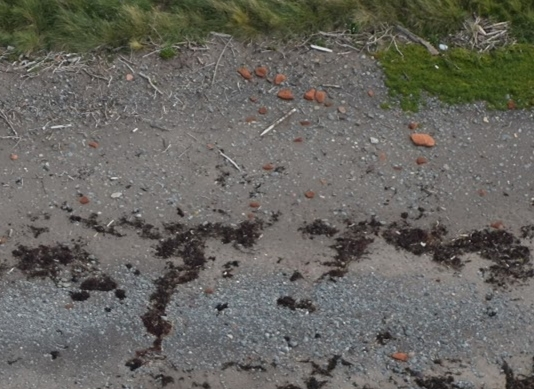scattered_barrel: (6, 27, 466, 368)
